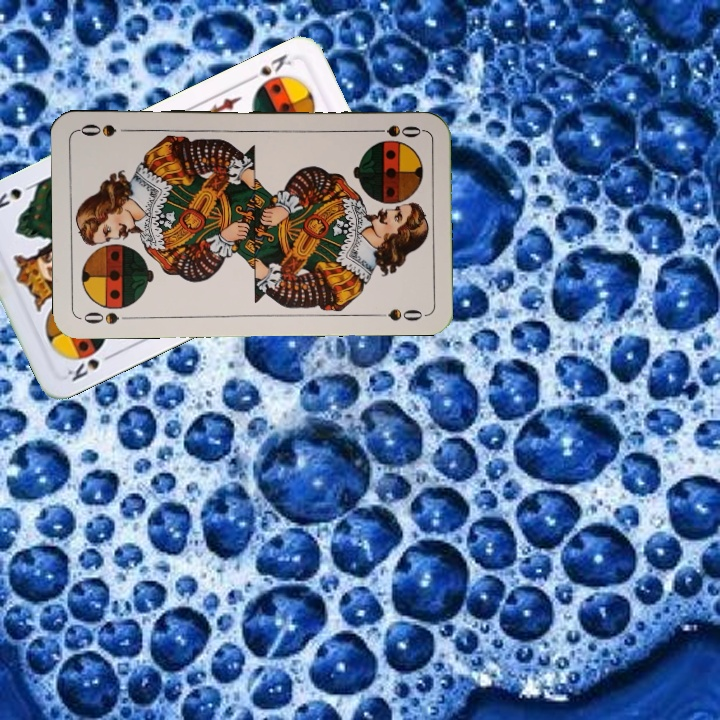SK: (63, 349, 118, 384), (243, 50, 294, 85)
SO: (79, 307, 137, 327), (365, 121, 425, 140)
